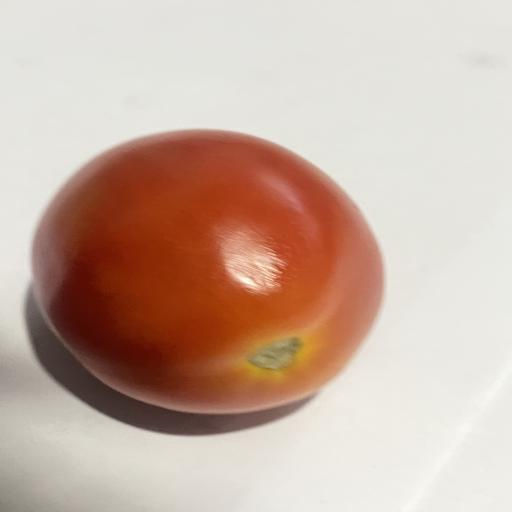ripe: (31, 130, 384, 414)
